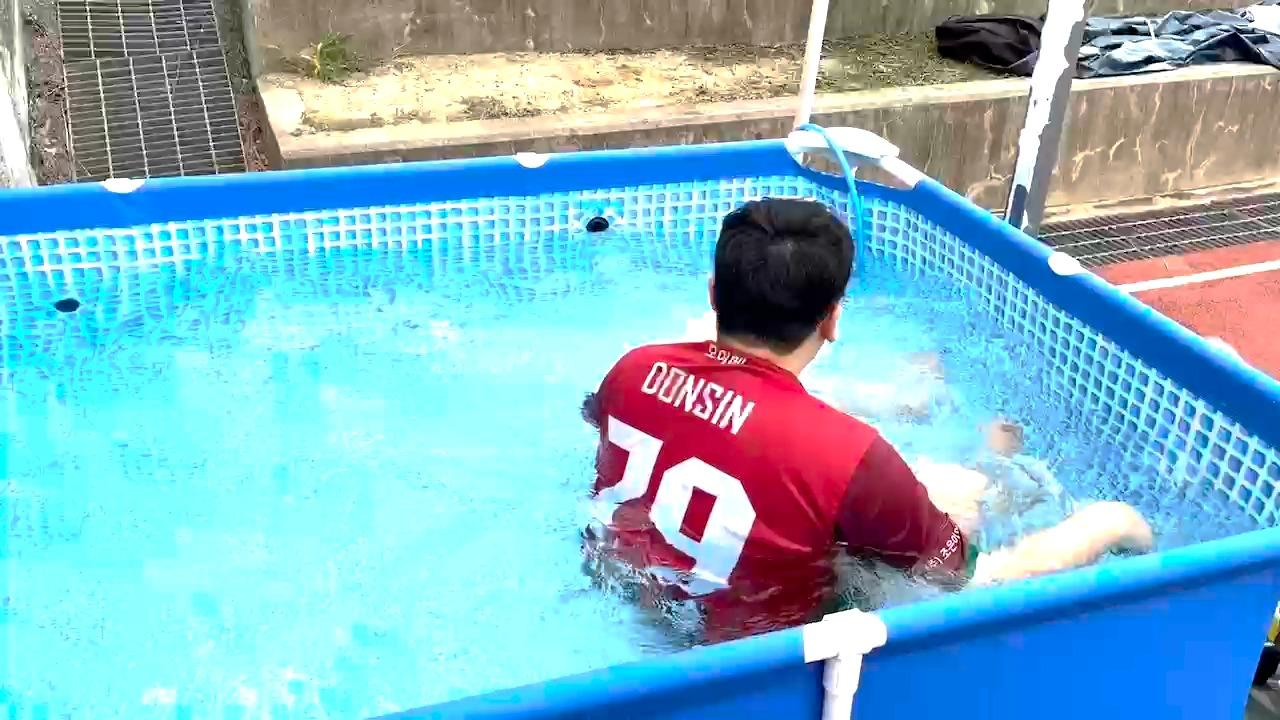Swimming: (490, 150, 1183, 648)
